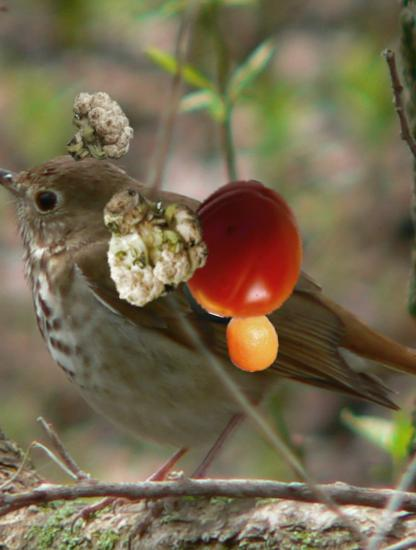Cauliflower: (89, 181, 207, 299), (57, 89, 135, 167)
Lemon: (221, 310, 284, 373)
Mango: (180, 231, 274, 325)
Tomato: (173, 180, 315, 322)
